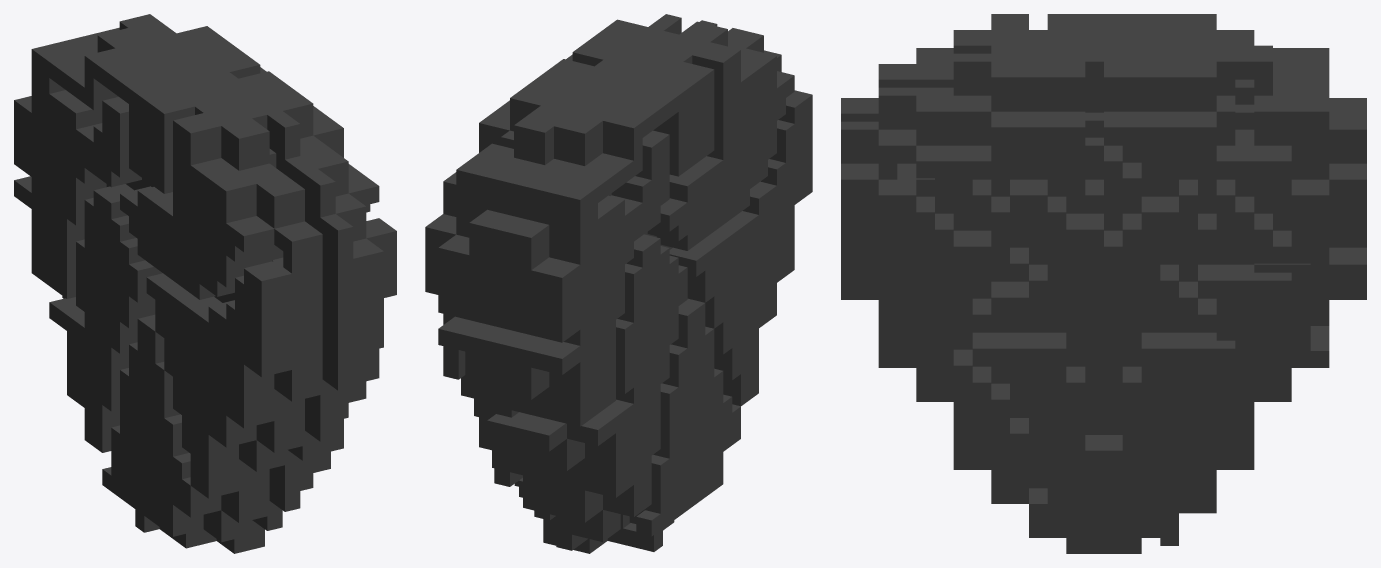
File: peito-1.obj
3 renders of one model, left to right at view 1: azimuth 30°, elevation 25°; view 2: azimuth 150°, elevation 25°; view 3: azimuth 270°, elevation 25°, orthographic. The views are drawn at different scales.
Size of the model in its own units: 1 by 2.8 by 2.8.
1 material, 1 textured.
